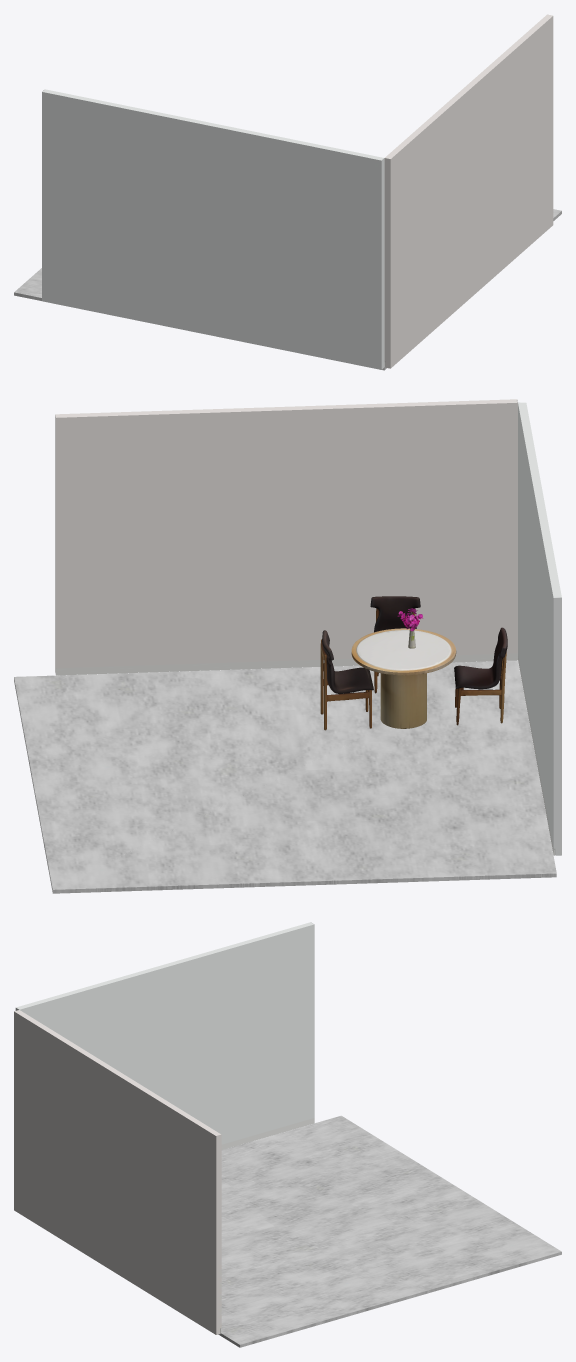
The model's file is dining-pedestal.glb.
3 views of the same model, one above another, from view 1: azimuth 30°, elevation 25°; view 2: azimuth 150°, elevation 25°; view 3: azimuth 270°, elevation 25° (orthographic). The views are drawn at different scales.
Visible parts, largest first — view 1: wall_2, wall_0, floor_0; view 2: wall_0, floor_0, wall_2, obj_table_0, wall_0_baseboard, obj_chair_0, obj_chair_2, obj_chair_1; view 3: floor_0, wall_0, wall_2, wall_2_baseboard.
Boxes of the visible parts, left/top/right/bottom form: wall_2: left=42, top=89, right=384, bottom=369; wall_0: left=384, top=14, right=553, bottom=368; floor_0: left=14, top=209, right=561, bottom=370; wall_0: left=55, top=399, right=517, bottom=674; floor_0: left=14, top=660, right=556, bottom=893; wall_2: left=518, top=402, right=561, bottom=855; obj_table_0: left=351, top=628, right=456, bottom=728; wall_0_baseboard: left=56, top=653, right=517, bottom=675; obj_chair_0: left=320, top=630, right=373, bottom=730; obj_chair_2: left=454, top=627, right=507, bottom=725; obj_chair_1: left=370, top=596, right=420, bottom=693; floor_0: left=218, top=1115, right=561, bottom=1347; wall_0: left=14, top=1010, right=221, bottom=1334; wall_2: left=15, top=922, right=314, bottom=1144; wall_2_baseboard: left=221, top=1118, right=314, bottom=1149.
Bounding box in the file's own units: 6.67 × 2.74 × 6.74.
Materials: 10 (10 with a texture image).
